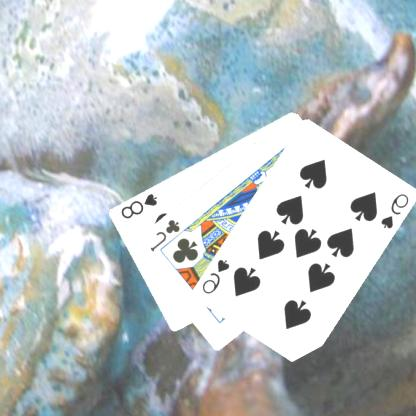8S: (119, 190, 160, 220)
9S: (379, 191, 412, 230), (200, 256, 232, 296)
JC: (148, 216, 183, 253)
